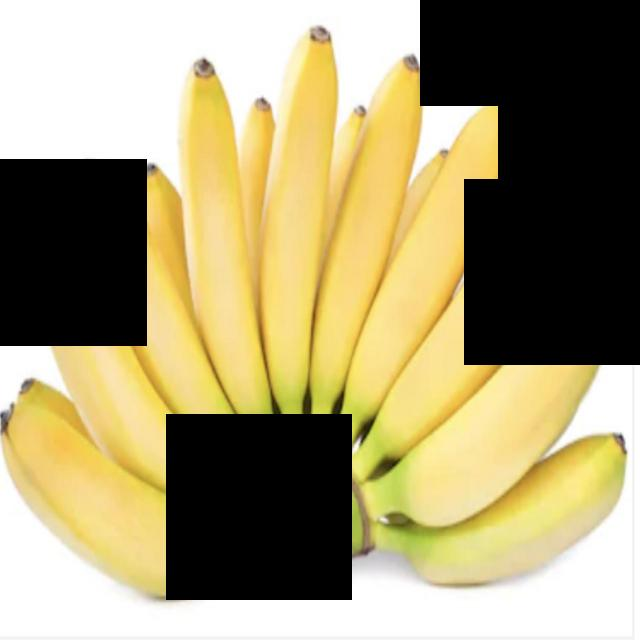banana: (312, 89, 523, 493), (365, 258, 639, 541), (342, 151, 570, 491), (26, 220, 266, 522), (85, 141, 269, 493), (0, 367, 194, 634), (168, 37, 282, 475), (304, 29, 416, 470), (404, 442, 639, 592), (266, 34, 344, 460)
